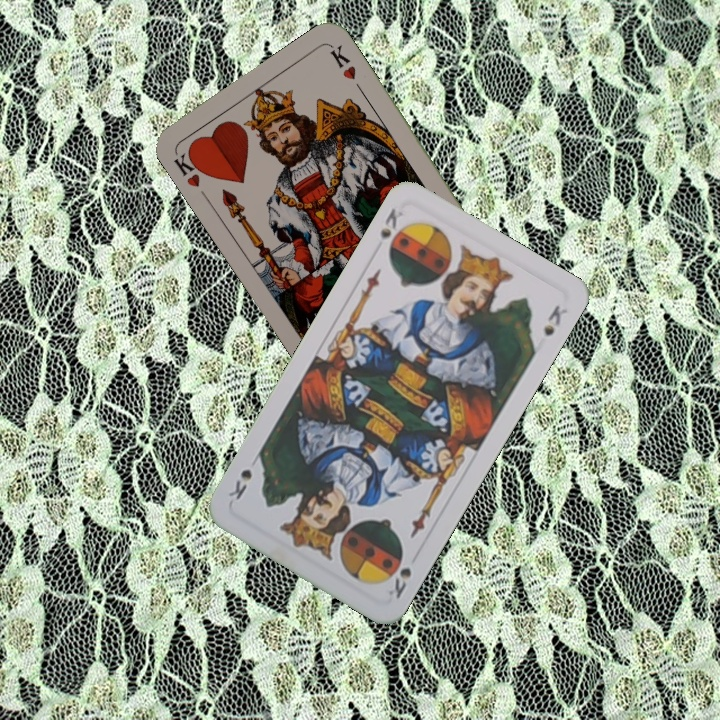HK: (170, 144, 210, 190)
SK: (384, 563, 414, 602), (376, 204, 406, 243)
